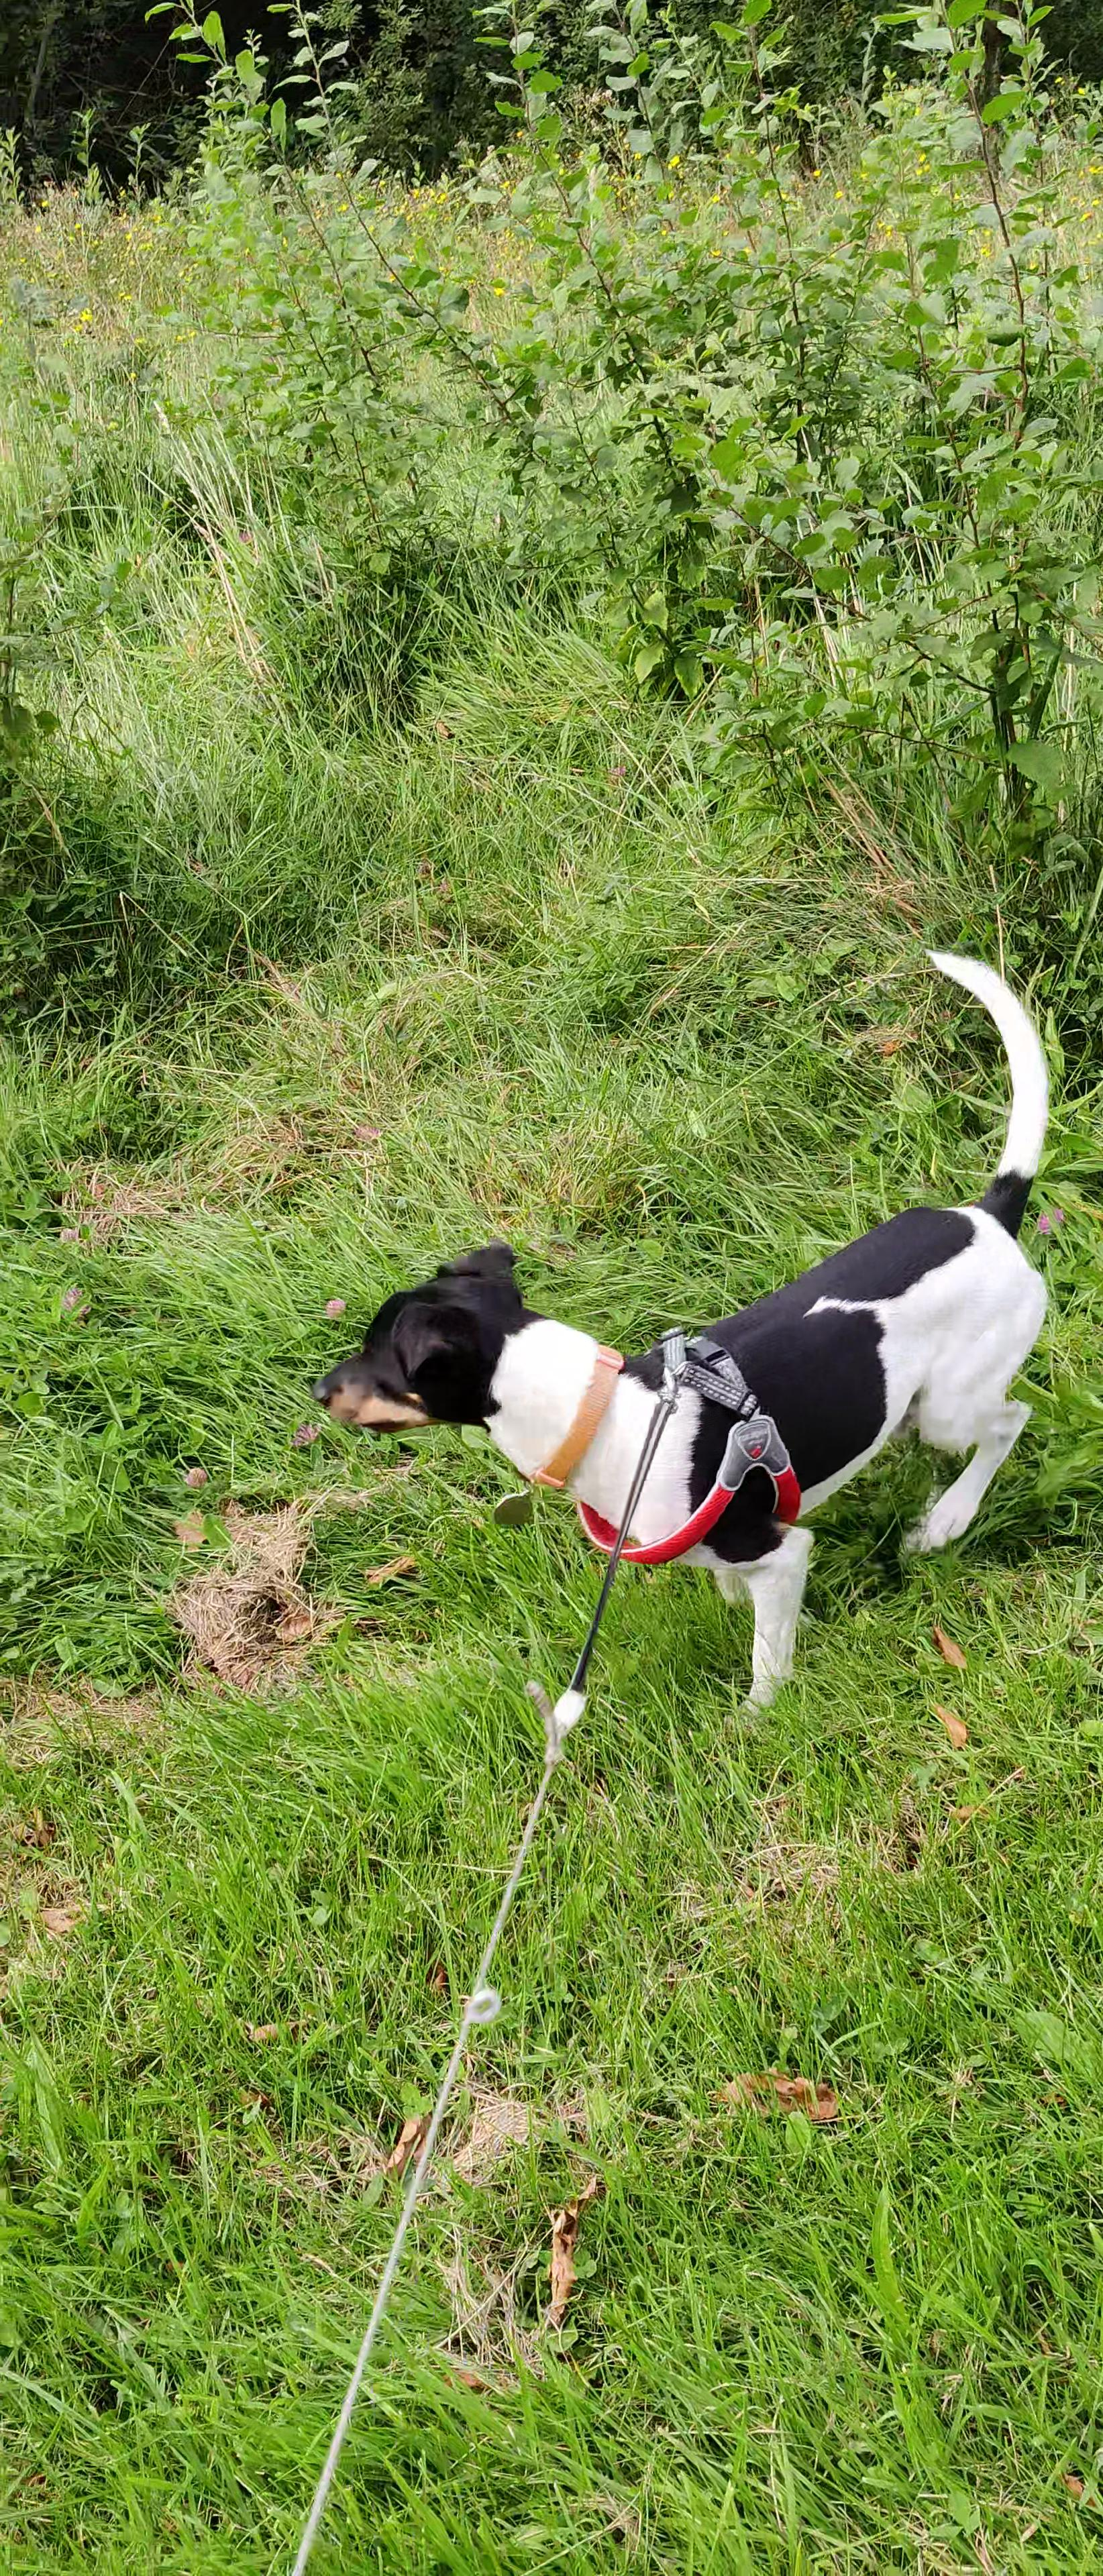Dog: (304, 945, 1075, 1723)
